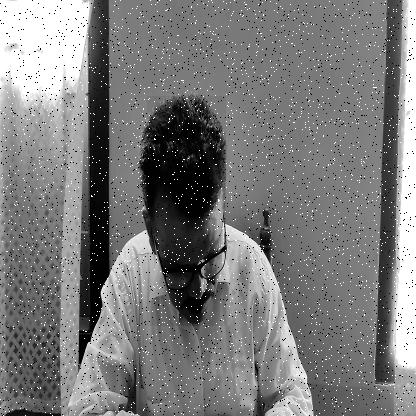Normal: (147, 96, 226, 326)
